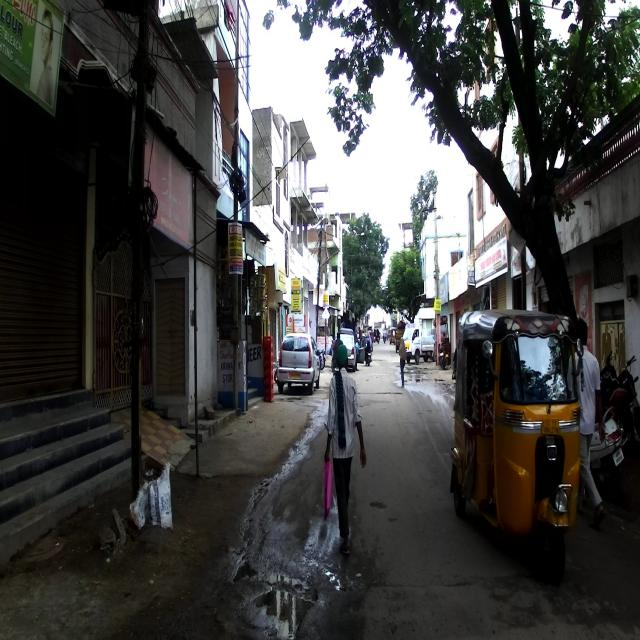Car_TATA: (275, 327, 324, 399)
autorickshaw: (448, 307, 584, 588)
motorcycle_Hero: (605, 355, 640, 485)
scooter: (578, 406, 630, 502)
